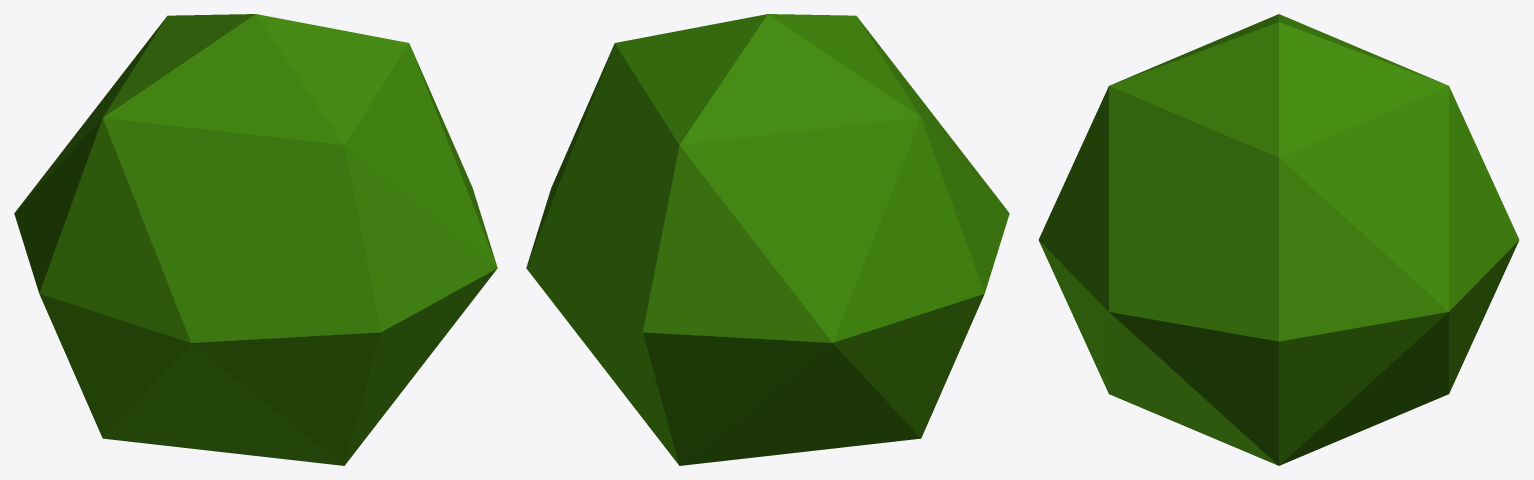
File: Bush_d_02.fbx
3 views of the same model, side by side, from view 1: azimuth 30°, elevation 25°; view 2: azimuth 150°, elevation 25°; view 3: azimuth 270°, elevation 25° (orthographic). The views are drawn at different scales.
Parts seen in each view (by area): view 1: Bush_d_02_LOD0; view 2: Bush_d_02_LOD0; view 3: Bush_d_02_LOD0.
Part boxes in pixels (box(x1,y1,x2,y2)): Bush_d_02_LOD0: box(14, 14, 497, 465); Bush_d_02_LOD0: box(526, 14, 1009, 465); Bush_d_02_LOD0: box(1038, 14, 1519, 465).
Size of what is drawn, in the model's own units: 16.07 by 14.64 by 16.07.
